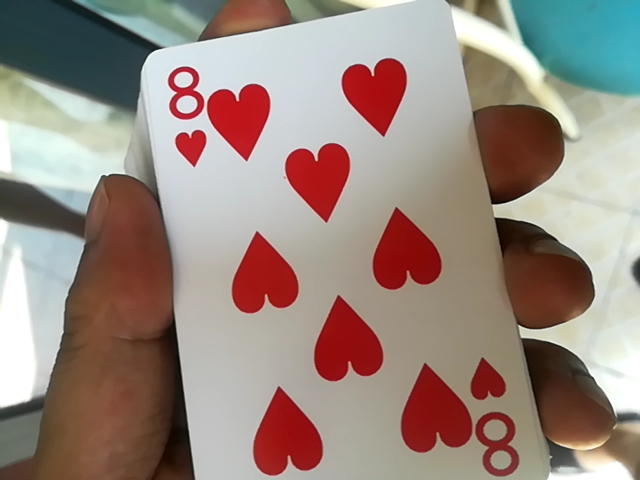hx 8: (146, 9, 583, 478)
